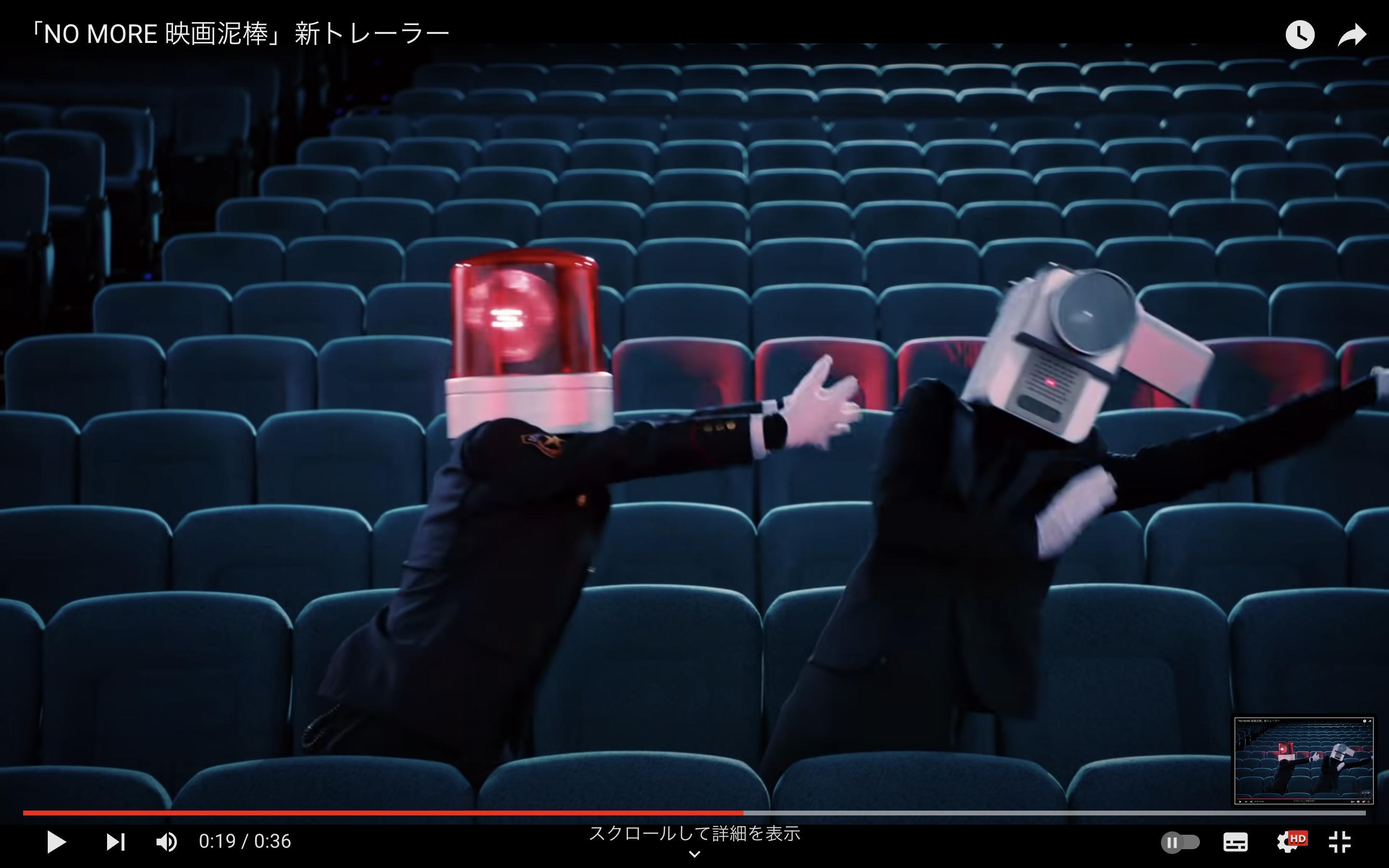no more kid: (960, 265, 1215, 445)
